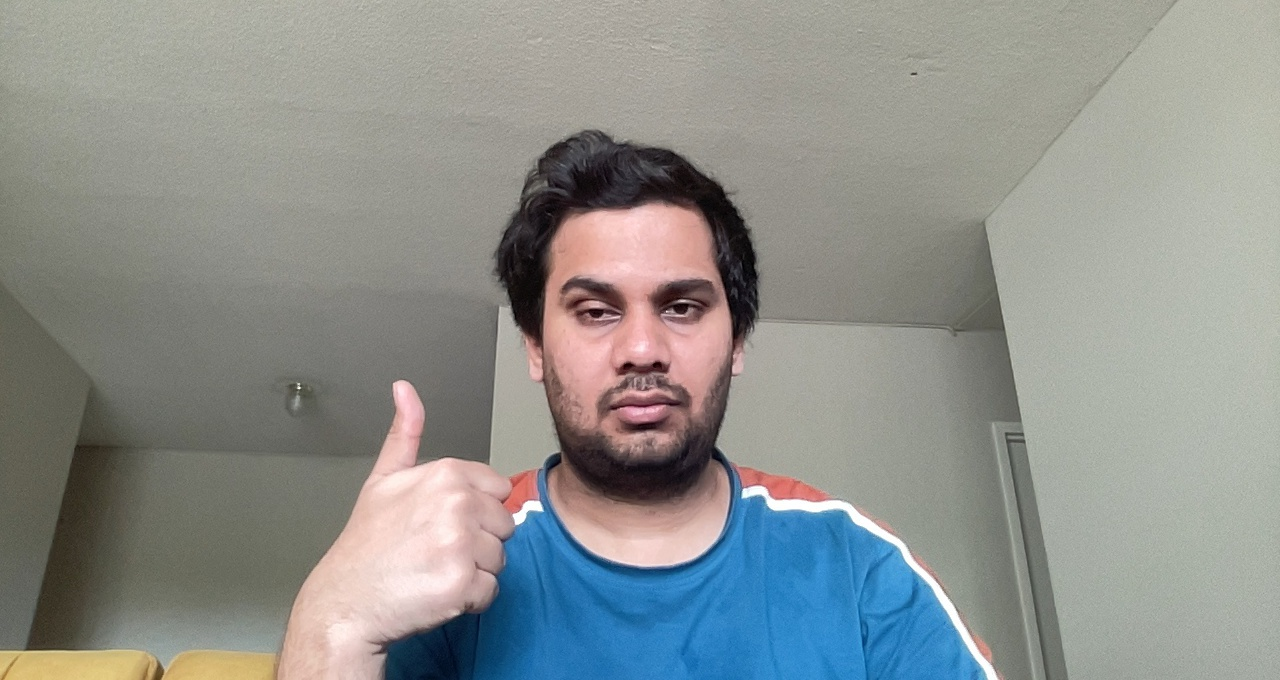thumbsup: (314, 371, 524, 630)
